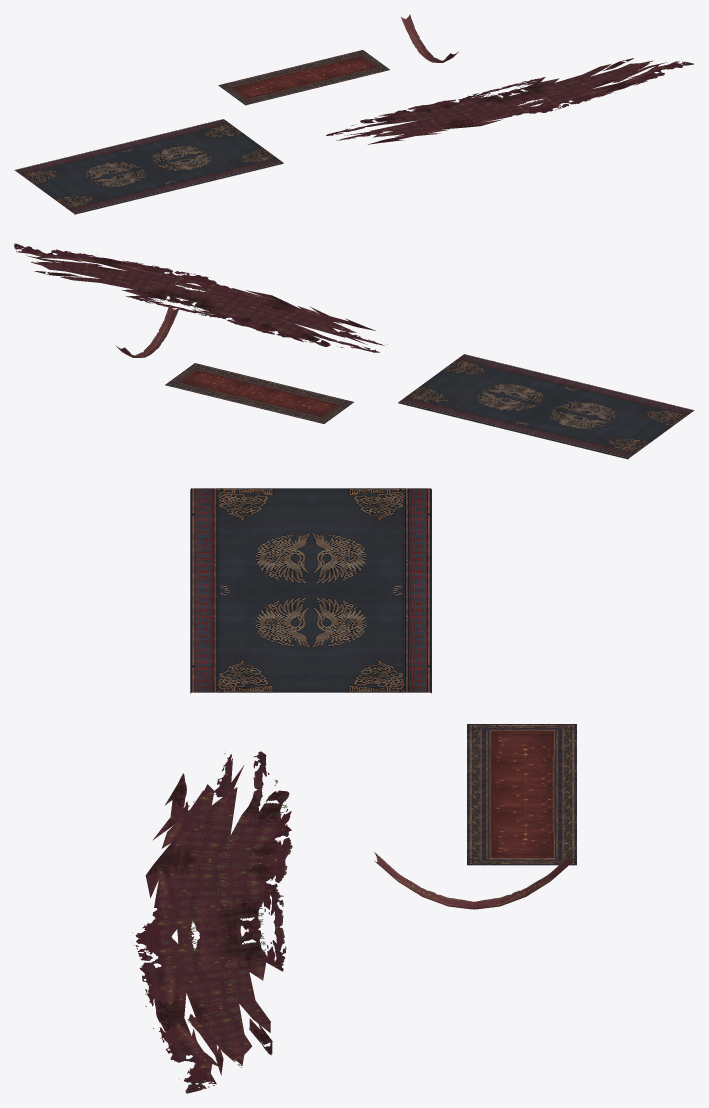
The model's file is 2_BTT_HuanLiDiTan_01.FBX.
The picture shows the model from 3 angles, top to bottom: view 1: azimuth 30°, elevation 25°; view 2: azimuth 150°, elevation 25°; view 3: azimuth 270°, elevation 25°; orthographic projection. The views are drawn at different scales.
Visible parts, largest first — view 1: 2_BTT_HuanLiDiTan_01, 2_BTT_PoLanDiTan_01, 2_BTT_HongDiTan_01, 2_BTT_HongBuGuaJian_01; view 2: 2_BTT_HuanLiDiTan_01, 2_BTT_PoLanDiTan_01, 2_BTT_HongDiTan_01, 2_BTT_HongBuGuaJian_01; view 3: 2_BTT_HuanLiDiTan_01, 2_BTT_PoLanDiTan_01, 2_BTT_HongDiTan_01, 2_BTT_HongBuGuaJian_01.
Boxes of the visible parts, x1=… form: 2_BTT_HuanLiDiTan_01: x1=14, y1=119, x2=283, y2=214; 2_BTT_PoLanDiTan_01: x1=326, y1=58, x2=693, y2=144; 2_BTT_HongDiTan_01: x1=218, y1=50, x2=389, y2=105; 2_BTT_HongBuGuaJian_01: x1=401, y1=14, x2=458, y2=62; 2_BTT_HuanLiDiTan_01: x1=398, y1=354, x2=694, y2=459; 2_BTT_PoLanDiTan_01: x1=14, y1=243, x2=387, y2=352; 2_BTT_HongDiTan_01: x1=165, y1=363, x2=353, y2=423; 2_BTT_HongBuGuaJian_01: x1=115, y1=304, x2=179, y2=357; 2_BTT_HuanLiDiTan_01: x1=190, y1=488, x2=431, y2=693; 2_BTT_PoLanDiTan_01: x1=132, y1=751, x2=292, y2=1093; 2_BTT_HongDiTan_01: x1=467, y1=724, x2=576, y2=865; 2_BTT_HongBuGuaJian_01: x1=374, y1=852, x2=573, y2=909.
Size of the model in its own units: 3305 by 133 by 1029.
